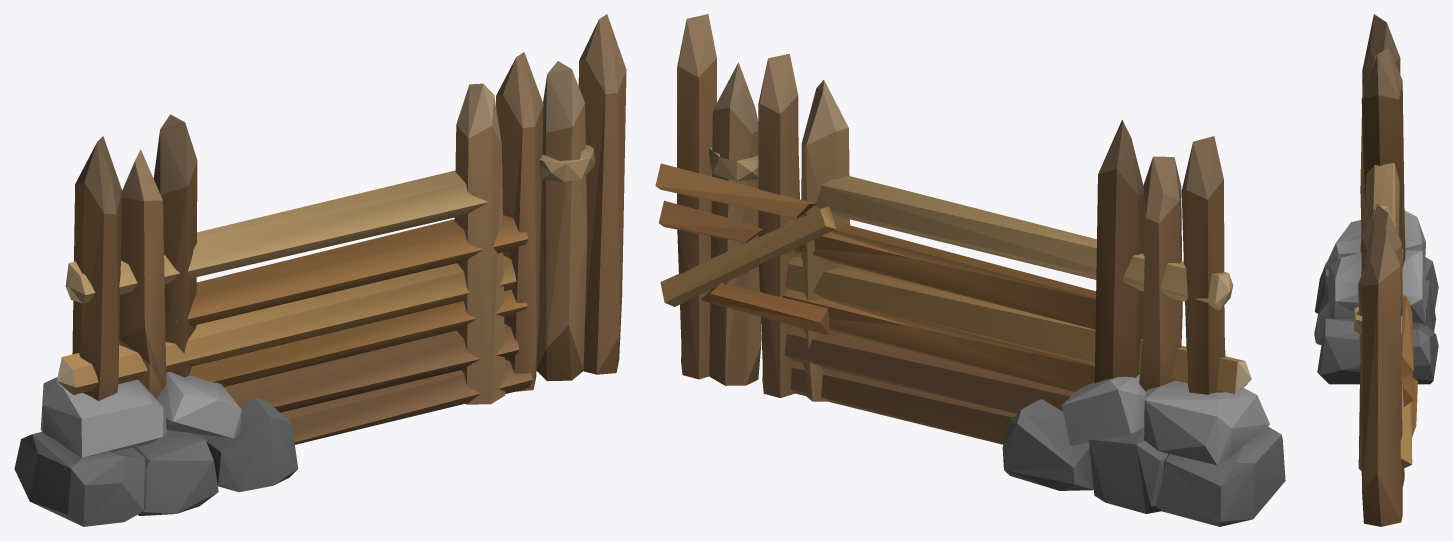
File: fence_stonewall_low.glb
3 renders of one model, left to right at view 1: azimuth 30°, elevation 25°; view 2: azimuth 150°, elevation 25°; view 3: azimuth 270°, elevation 25°, orthographic. The views are drawn at different scales.
Bounding box in the file's own units: 2.41 × 1.4 × 0.5223.
